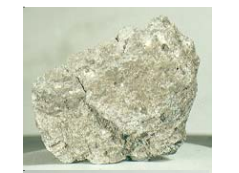Breccia: (24, 13, 199, 167)
